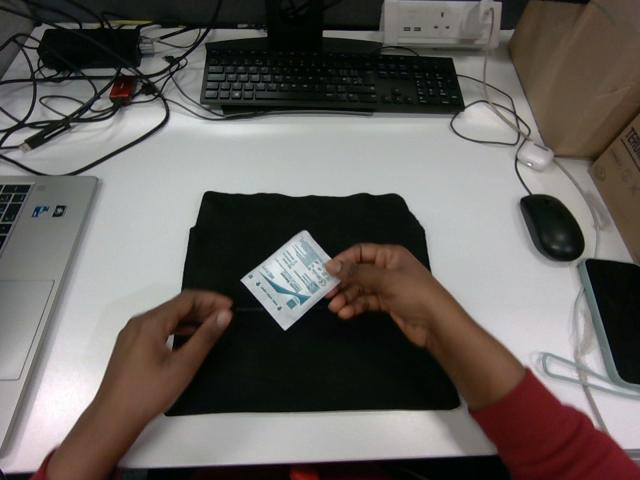gauze: (241, 230, 339, 329)
